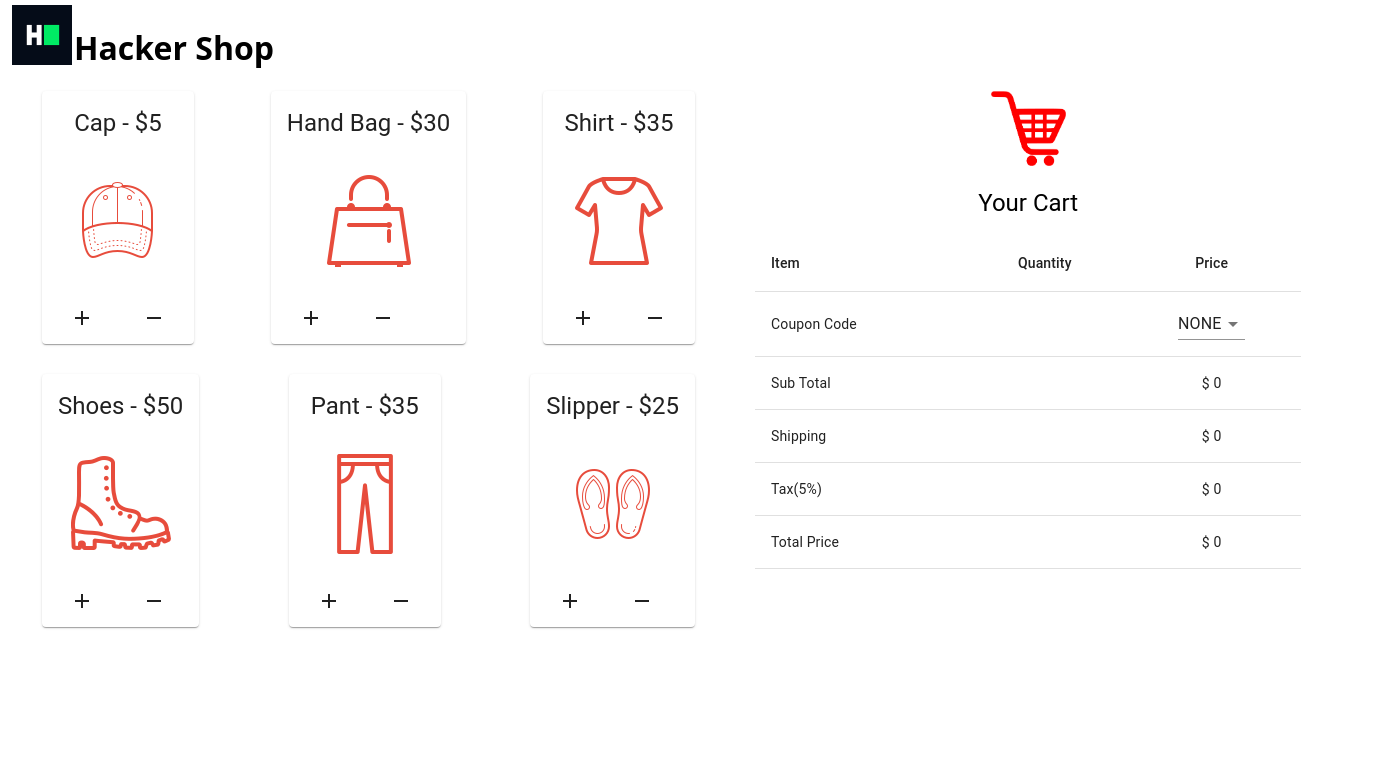
Scenario: Hacker Shop <App/> › Check total price
Click the button with id "buttonAdd1": click(311, 318) [279, 300, 343, 336]
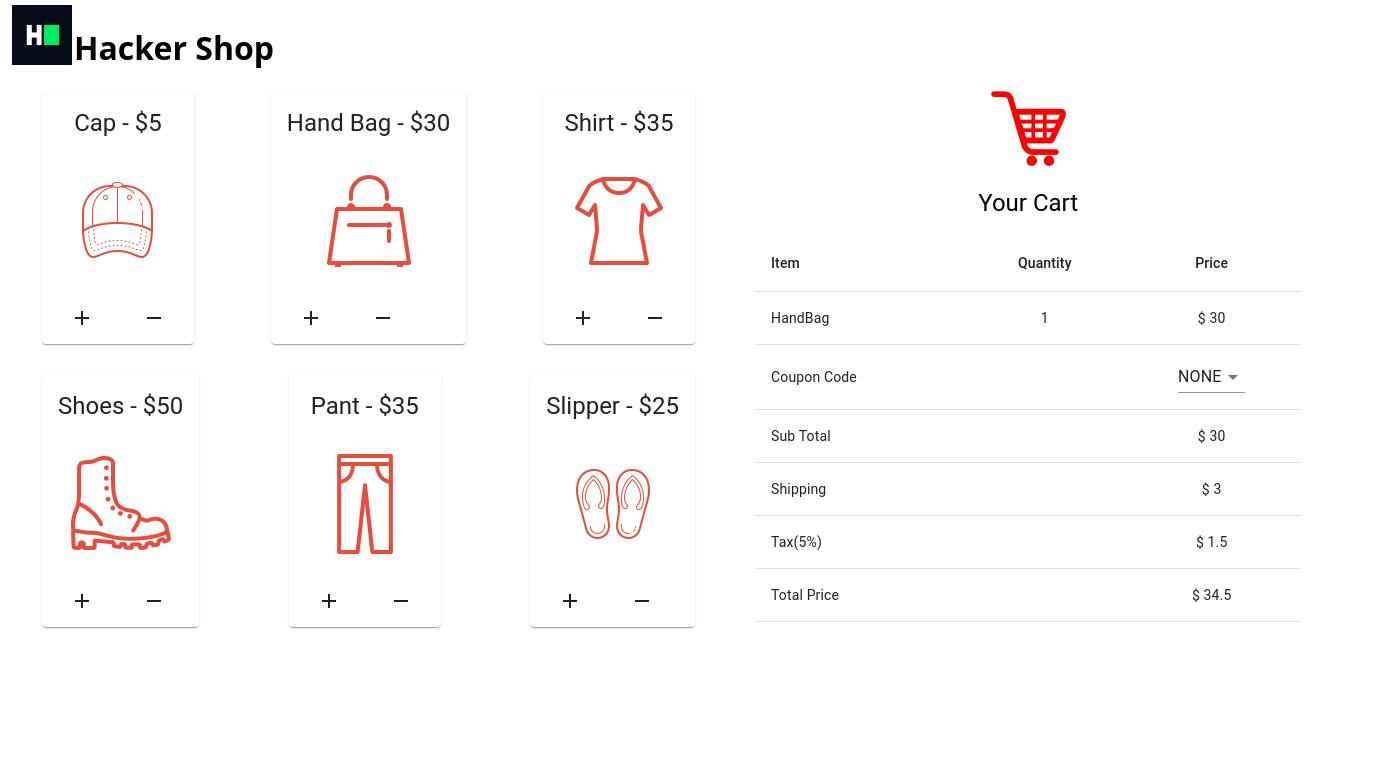
Click the button with id "buttonAdd2": click(583, 318) [551, 300, 615, 336]
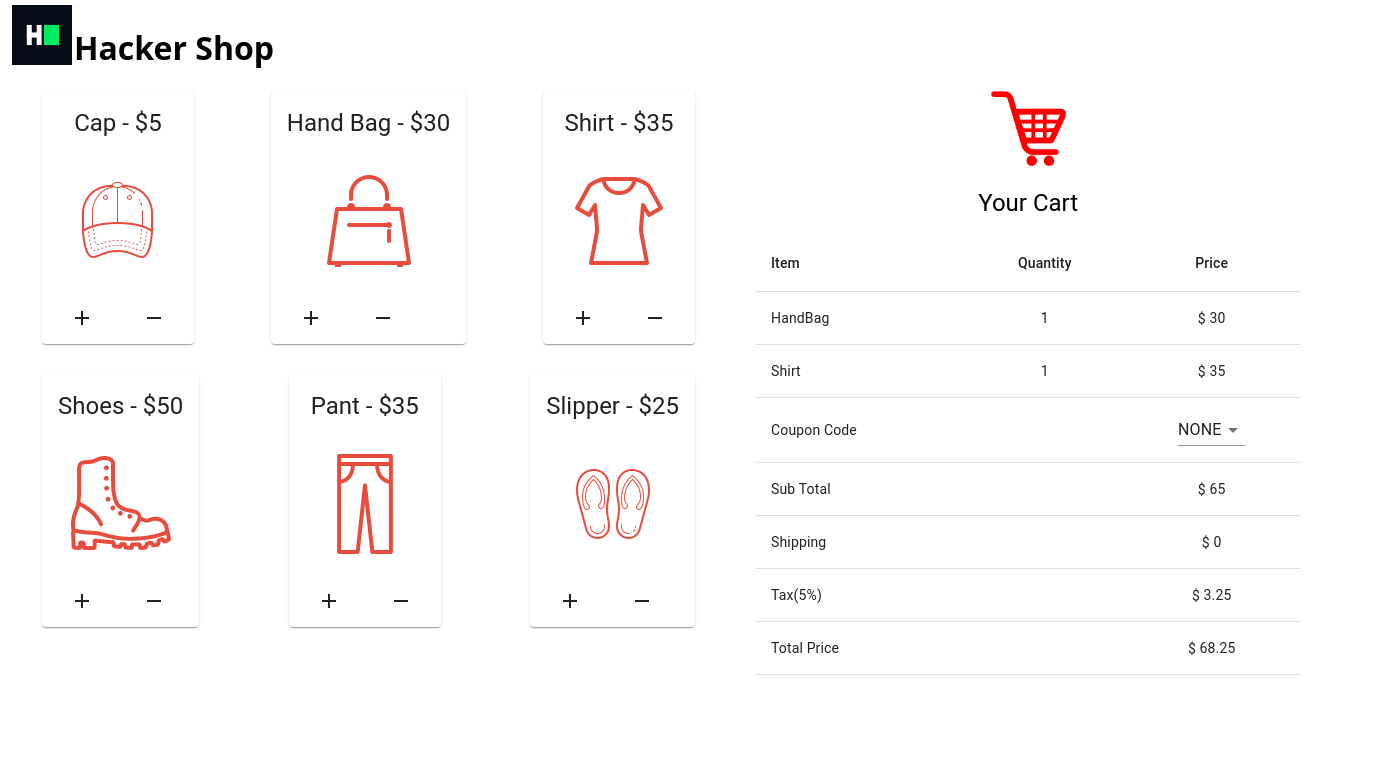
Click the button with id "buttonAdd3": click(82, 601) [50, 583, 114, 619]
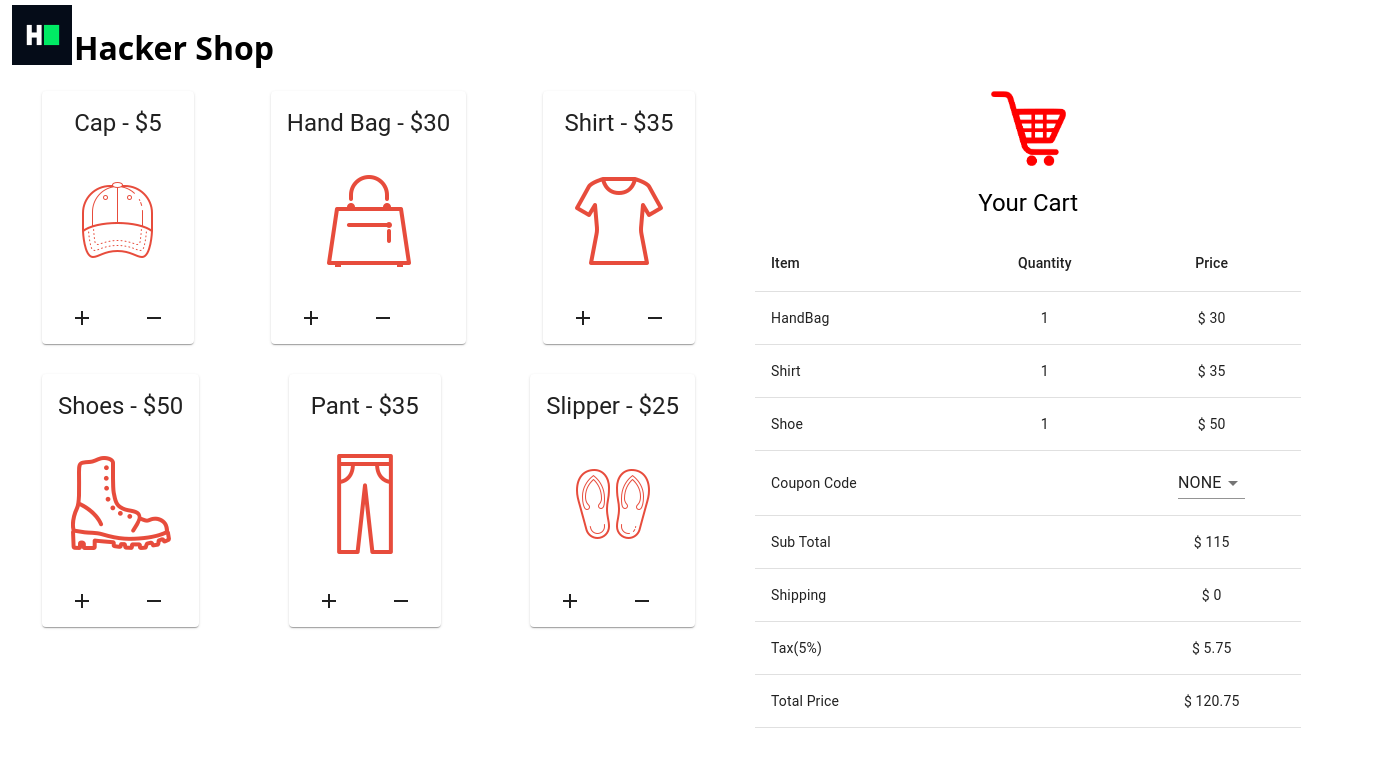
Now the row with id "totalPriceRow" reads "Total Price $ 120.75", box [755, 674, 1301, 728]
